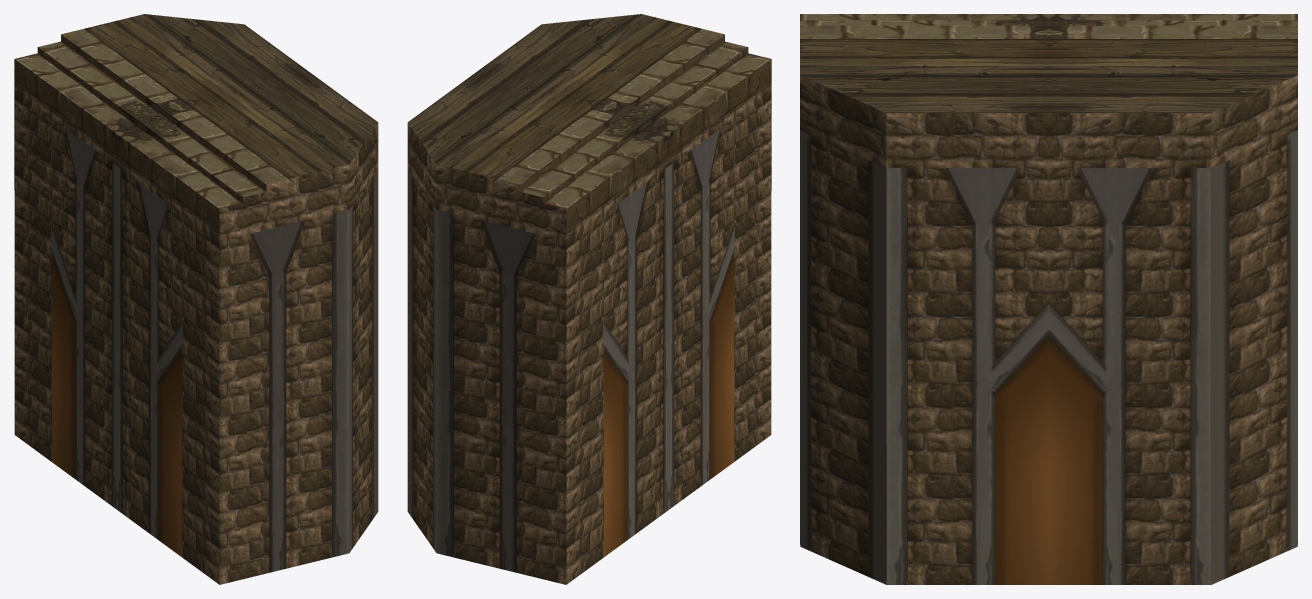
Rendered from Battle04_Wall_06.FBX.
3 views of the same model, side by side, from view 1: azimuth 30°, elevation 25°; view 2: azimuth 150°, elevation 25°; view 3: azimuth 270°, elevation 25° (orthographic). The views are drawn at different scales.
Visible parts, largest first — view 1: Battle04_Wall_06_02, Battle04_Wall_06_01; view 2: Battle04_Wall_06_02, Battle04_Wall_06_01; view 3: Battle04_Wall_06_02, Battle04_Wall_06_01.
Part boxes in pixels (bbox=[...]): Battle04_Wall_06_02: bbox=[14, 34, 378, 584]; Battle04_Wall_06_01: bbox=[14, 14, 378, 232]; Battle04_Wall_06_02: bbox=[407, 34, 771, 584]; Battle04_Wall_06_01: bbox=[407, 14, 771, 232]; Battle04_Wall_06_02: bbox=[800, 75, 1297, 584]; Battle04_Wall_06_01: bbox=[800, 14, 1297, 112].
Size of the model in its own units: 8.76 by 16.74 by 16.01.
